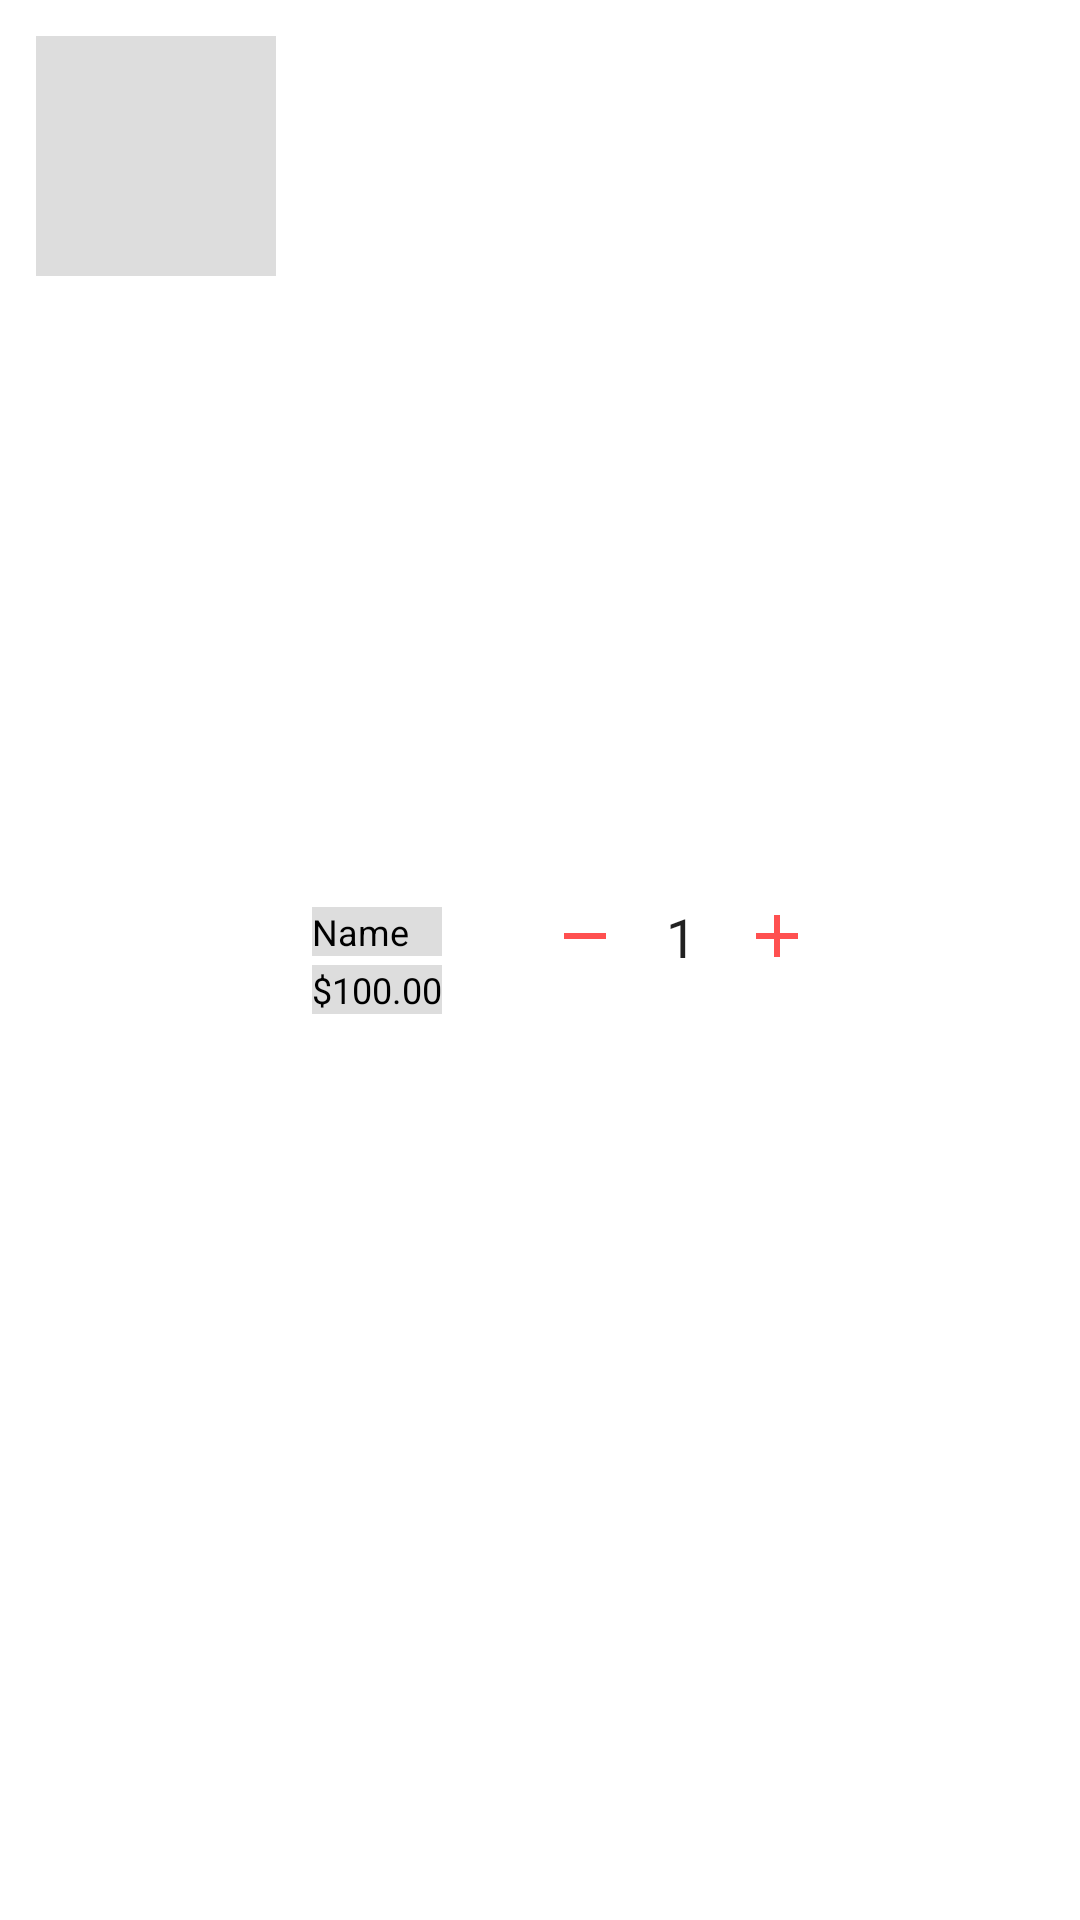

Locate icon controls on the screen. Image size 1080x1920, boxes as (x1, y1, x2, y2).
add: (756, 915, 798, 957)
